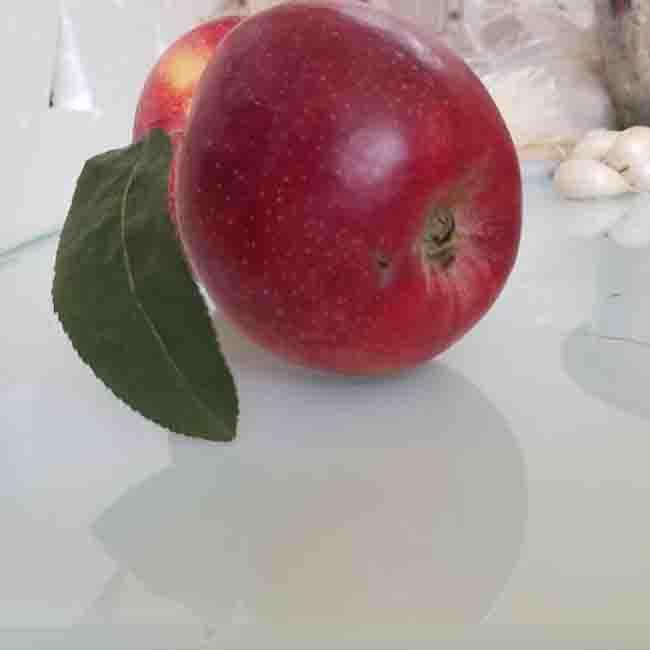apple: (166, 1, 526, 377)
